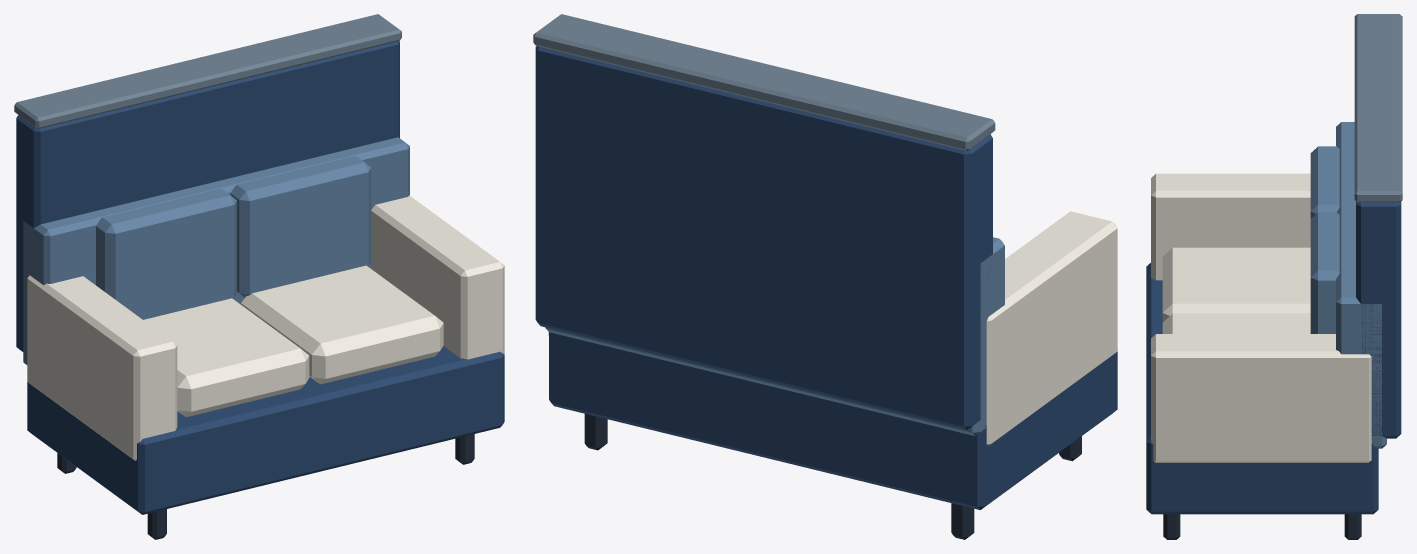
The model's file is restaurant_11.glb.
3 views of the same model, side by side, from view 1: azimuth 30°, elevation 25°; view 2: azimuth 150°, elevation 25°; view 3: azimuth 270°, elevation 25° (orthographic). The views are drawn at different scales.
Parts seen in each view (by area): view 1: BoothHighBack, SofaBase, Armrest (×2), BackCushion (×2), SeatCushion (×2), BoothRail, Backrest; view 2: BoothHighBack, SofaBase, Armrest, BoothRail, Backrest, Leg (×2); view 3: Armrest (×2), SofaBase, SeatCushion (×2), BoothRail, BoothHighBack, Backrest, BackCushion (×2), Leg (×2).
Boxes of the visible parts, x1,y1,x2,y2 form: BoothHighBack: (16, 41, 399, 351); SofaBase: (27, 346, 504, 514); Armrest (×2): (27, 195, 504, 460); BackCushion (×2): (96, 155, 371, 319); SeatCushion (×2): (143, 265, 443, 417); BoothRail: (14, 14, 401, 128); Backrest: (23, 137, 409, 364); BoothHighBack: (535, 46, 992, 429); SofaBase: (549, 332, 1117, 510); Armrest: (986, 211, 1117, 445); BoothRail: (533, 14, 995, 150); Backrest: (545, 237, 1004, 436); Leg (×2): (584, 414, 974, 539); Armrest (×2): (1151, 173, 1371, 462); SofaBase: (1146, 263, 1378, 514); SeatCushion (×2): (1162, 247, 1310, 333); BoothRail: (1354, 14, 1402, 202); BoothHighBack: (1356, 201, 1401, 438); Backrest: (1336, 122, 1386, 448); BackCushion (×2): (1310, 146, 1339, 333); Leg (×2): (1163, 514, 1361, 539).
Bounding box in the file's own units: 1.52 × 1.4 × 0.905.
